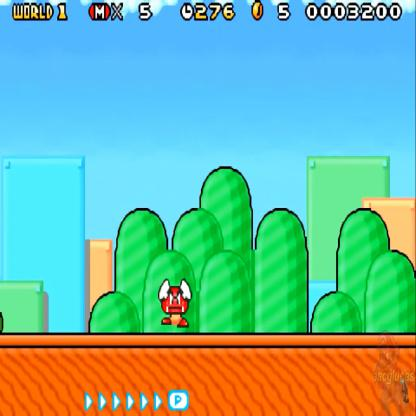Goomba: (154, 278, 195, 330)
moneda: (250, 0, 264, 20)
